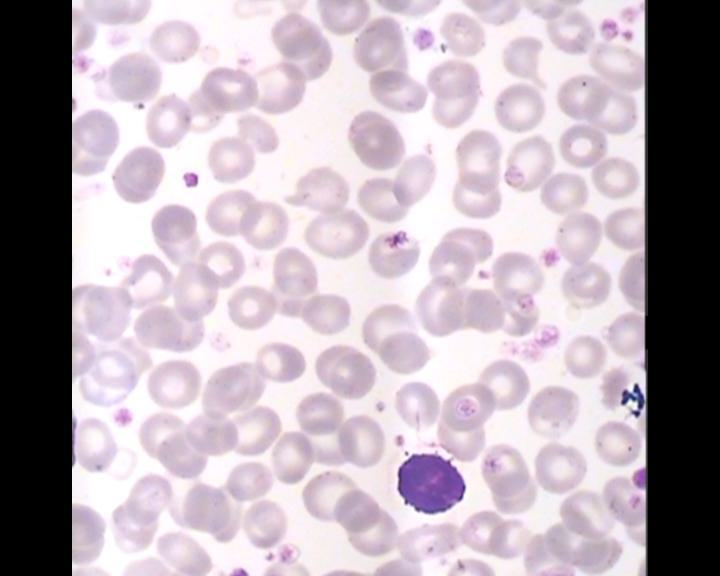baso: (393, 449, 468, 521)
